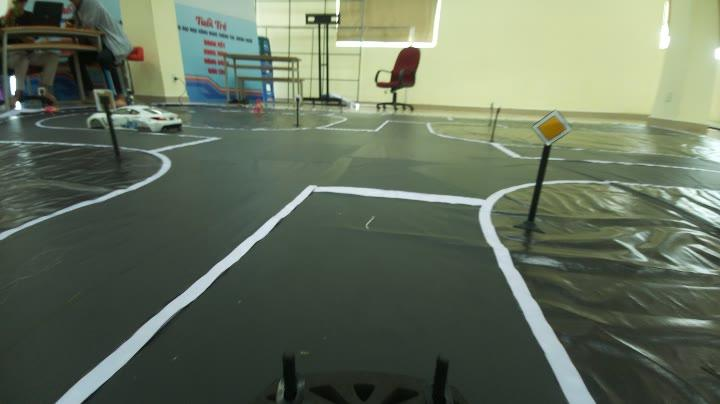priority: (534, 106, 578, 150)
